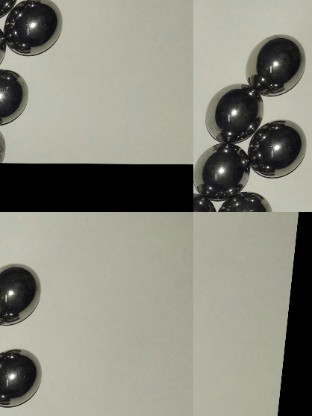ironball: (239, 28, 305, 98), (199, 78, 264, 143), (0, 0, 68, 59), (249, 113, 306, 178), (192, 144, 259, 195), (0, 263, 50, 329), (0, 345, 41, 407), (0, 68, 33, 123), (218, 185, 273, 209)
